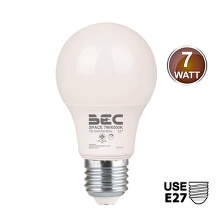light_bulb: (50, 15, 161, 210)
